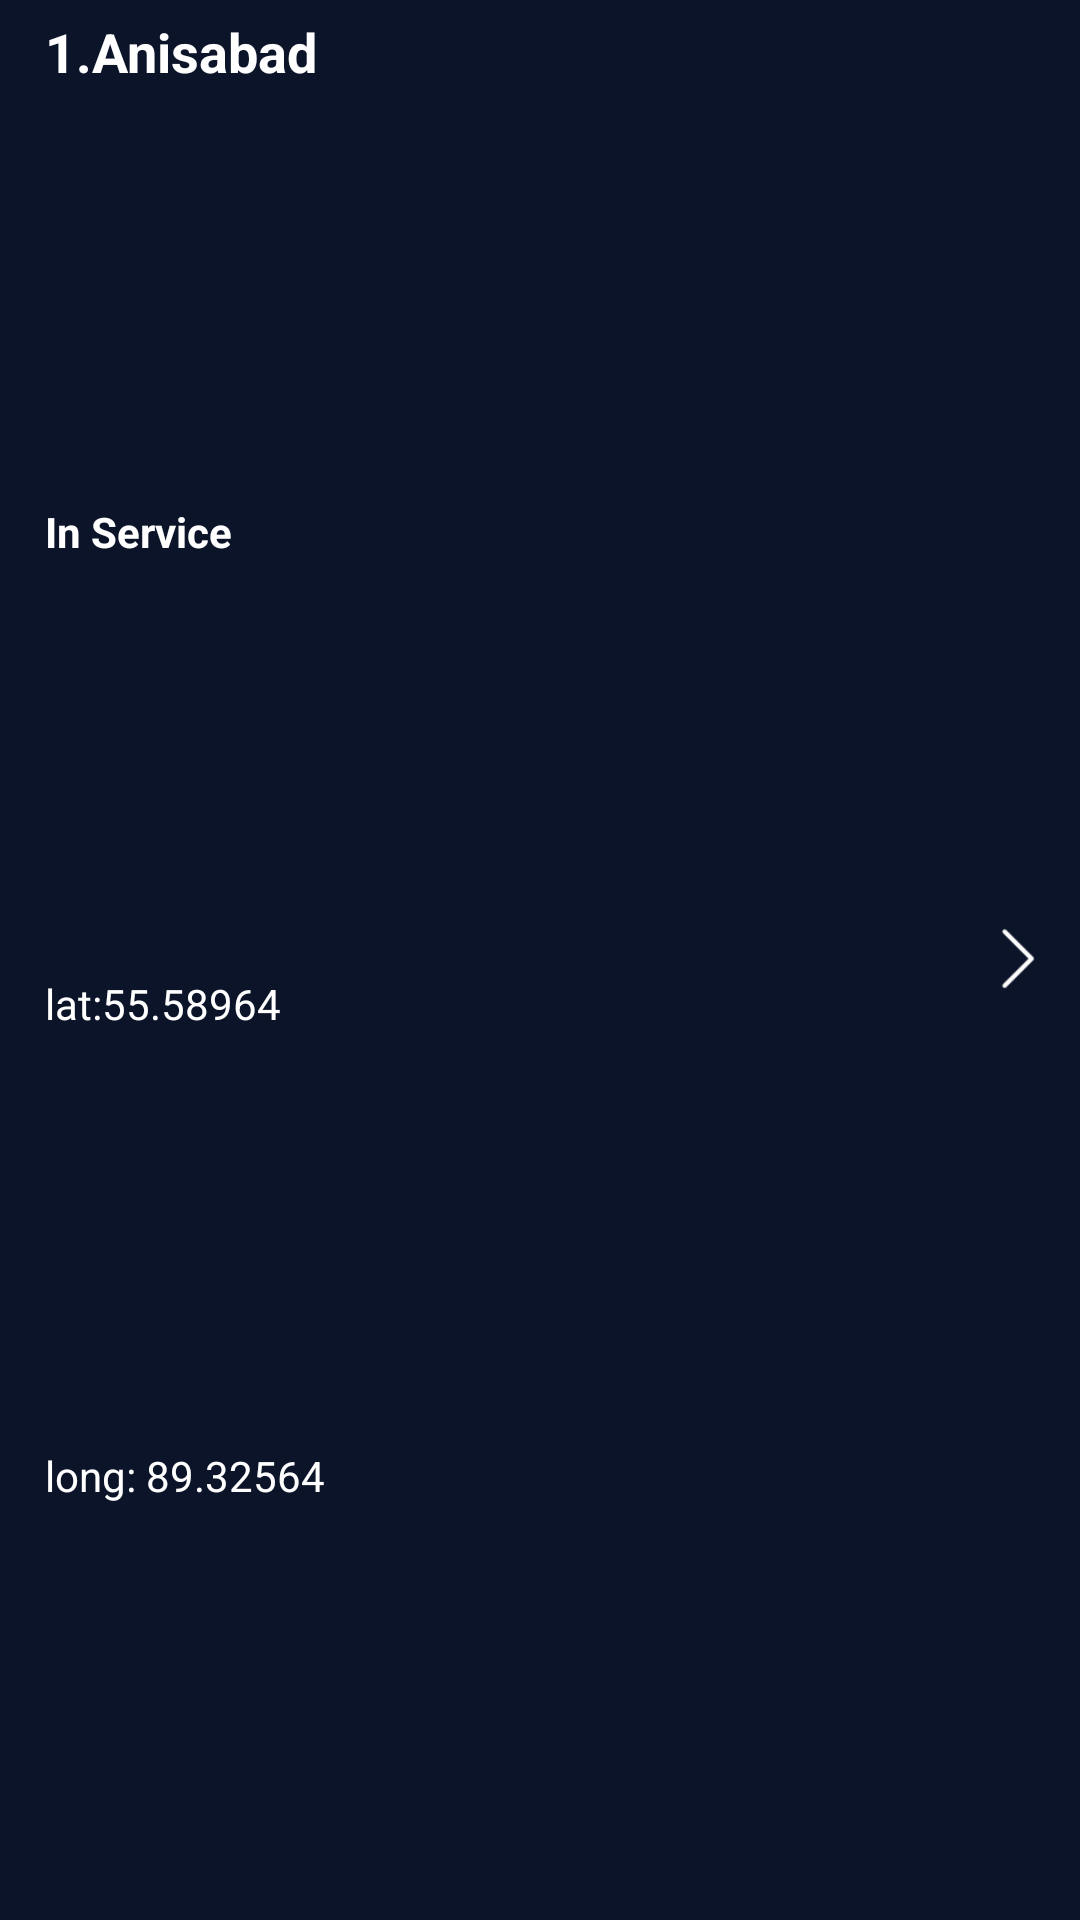

Icons on this 1080px x 1920px Android screen, each with its box as [x1=x1, y1=y1, x2=x2, y2=y2]:
arrow: [x1=1002, y1=929, x2=1035, y2=989]
